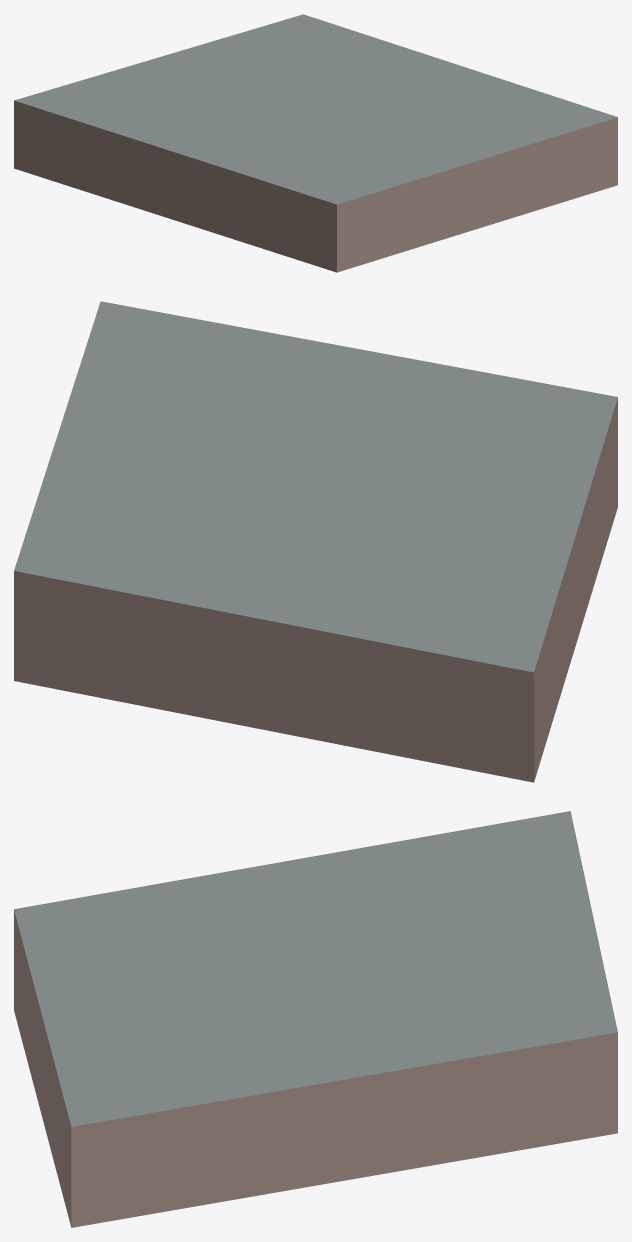
Rendered from context-2-0.gltf.
The picture shows the model from 3 angles, top to bottom: view 1: azimuth 30°, elevation 25°; view 2: azimuth 150°, elevation 25°; view 3: azimuth 270°, elevation 25°; orthographic projection. The views are drawn at different scales.
Parts seen in each view (by area): view 1: context-2-0; view 2: context-2-0; view 3: context-2-0.
Boxes of the visible parts, x1,y1,x2,y2 form: context-2-0: [14, 14, 617, 272]; context-2-0: [14, 301, 617, 782]; context-2-0: [14, 811, 617, 1227].
Bounding box in the file's own units: 51.39 × 7.67 × 41.53.
